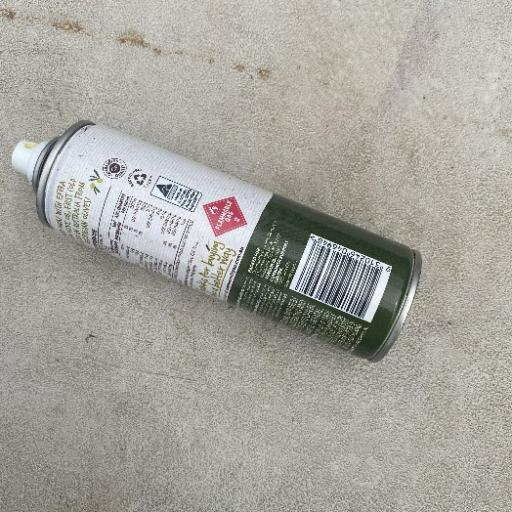Metal: (10, 118, 423, 364)
